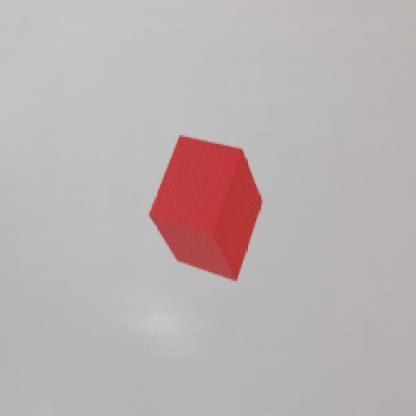cube: (147, 134, 263, 282)
